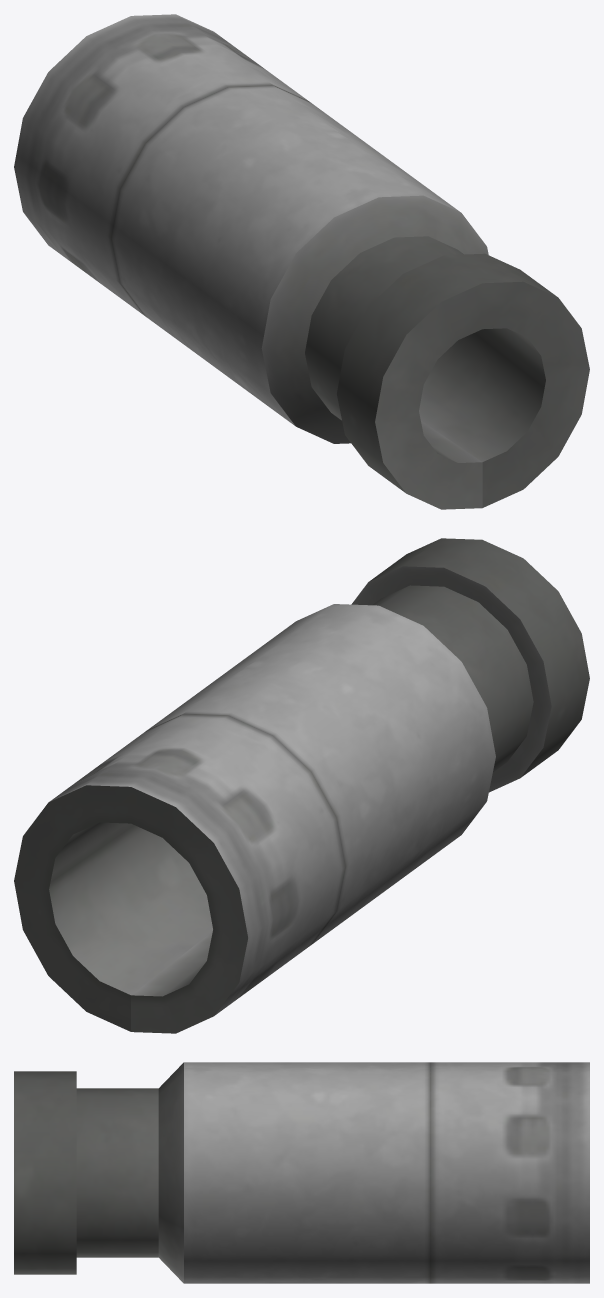
The model's file is IG_Acc_Muzzle_SMG_SCA_2.fbx.
3 views of the same model, one above another, from view 1: azimuth 30°, elevation 25°; view 2: azimuth 150°, elevation 25°; view 3: azimuth 270°, elevation 25° (orthographic). The views are drawn at different scales.
Visible parts, largest first — view 1: Muzzle_SMG_SCA_2; view 2: Muzzle_SMG_SCA_2; view 3: Muzzle_SMG_SCA_2.
Boxes of the visible parts, x1,y1,x2,y2 form: Muzzle_SMG_SCA_2: (14,14,589,509); Muzzle_SMG_SCA_2: (14,538,589,1033); Muzzle_SMG_SCA_2: (14,1062,589,1283).
Size of the model in its own units: 0.0725 by 0.0725 by 0.1883.
